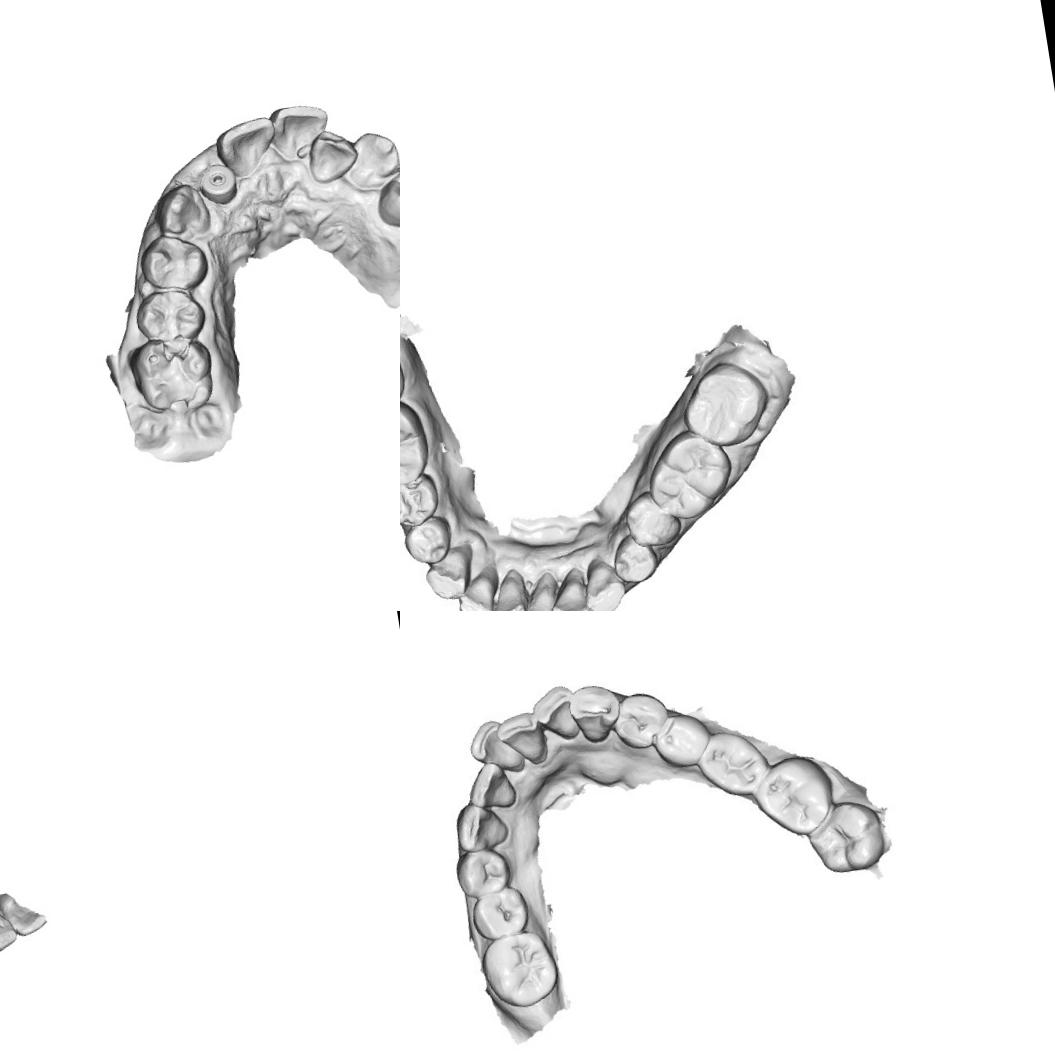canine: (151, 179, 214, 245), (566, 679, 624, 750), (446, 796, 514, 856), (344, 125, 400, 194), (420, 546, 475, 606), (581, 552, 628, 611), (0, 894, 21, 959)
implant: (197, 158, 241, 206)
incisor: (212, 112, 282, 180), (268, 98, 335, 162), (464, 712, 523, 778), (302, 125, 362, 187), (494, 707, 550, 772), (528, 682, 581, 748), (467, 760, 520, 811), (549, 569, 592, 611), (457, 571, 501, 611), (488, 568, 527, 611), (520, 575, 563, 611)
molar: (746, 751, 839, 844), (127, 330, 219, 416), (683, 360, 772, 448), (800, 795, 887, 882), (478, 928, 563, 1015), (646, 430, 734, 510), (696, 728, 773, 802), (400, 404, 429, 489)
premolar: (136, 226, 212, 296), (128, 282, 210, 345), (608, 689, 675, 753), (469, 885, 534, 944), (651, 712, 712, 771), (451, 845, 510, 902), (623, 494, 679, 548), (608, 537, 659, 587), (402, 520, 454, 562), (375, 161, 400, 227), (400, 478, 434, 526)
